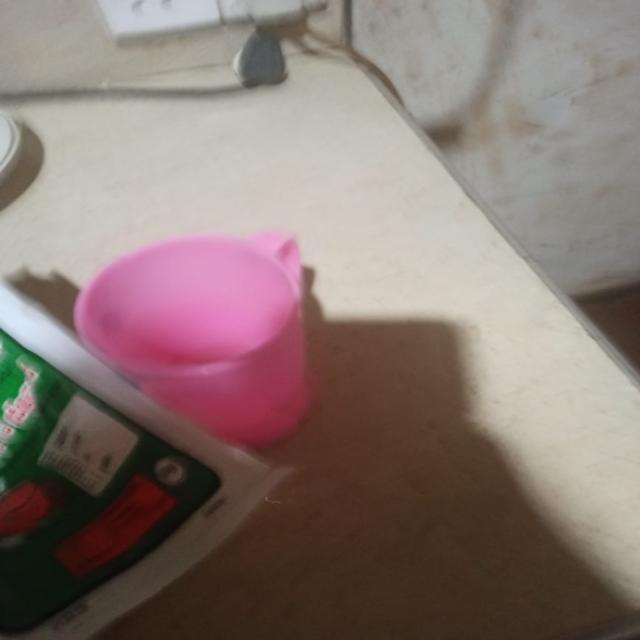Central Tea: (0, 243, 273, 640)
